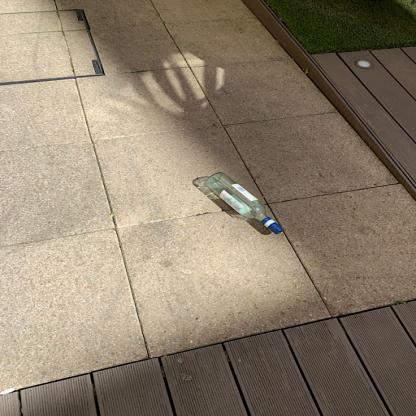trash: (202, 171, 285, 239)
